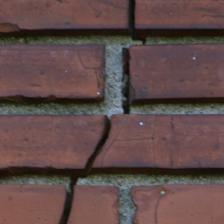Crack: (30, 59, 86, 165)
